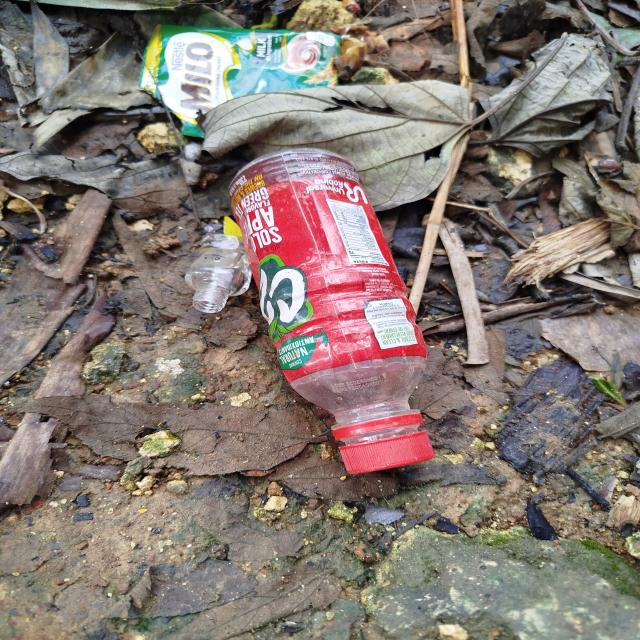plastic: (209, 137, 469, 496)
residual: (119, 21, 349, 142)
